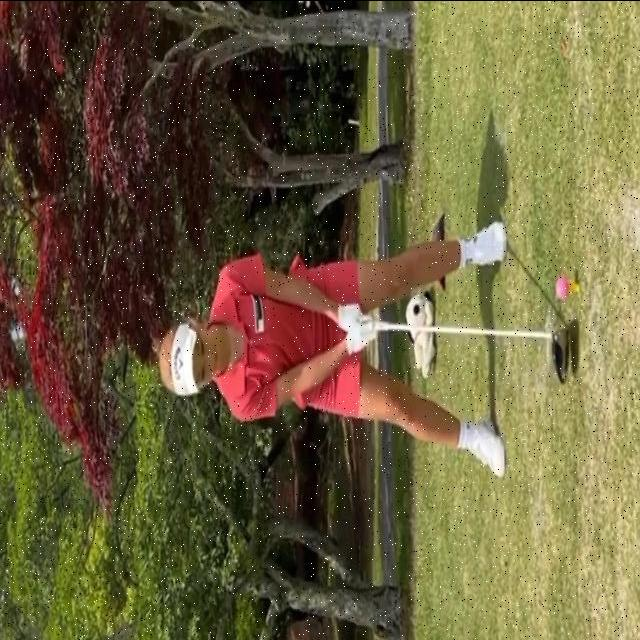golf ball: (553, 269, 571, 301)
golf club-handle: (357, 315, 575, 389)
golf club-head: (552, 322, 577, 377)
